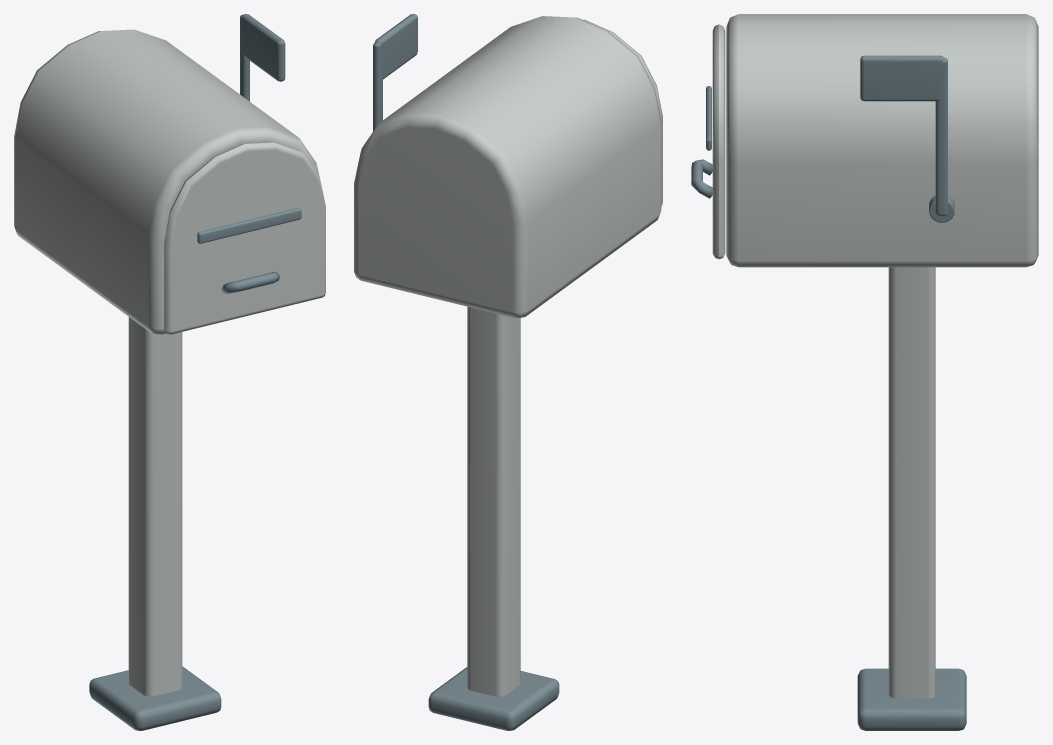
Rendered from mailbox.glb.
3 renders of one model, left to right at view 1: azimuth 30°, elevation 25°; view 2: azimuth 150°, elevation 25°; view 3: azimuth 270°, elevation 25°, orthographic. The views are drawn at different scales.
Parts seen in each view (by area): view 1: mailbox_shell, door, post, post_foot, flag, mail_slot, door_pull; view 2: mailbox_shell, post, post_foot, flag, flag_arm, door; view 3: mailbox_shell, post, post_foot, flag, door, flag_arm, door_pull.
Boxes of the visible parts, x1,y1,x2,y2 form: mailbox_shell: [14, 29, 323, 334]; door: [164, 142, 325, 334]; post: [128, 317, 182, 696]; post_foot: [89, 666, 221, 730]; flag: [241, 14, 285, 81]; mail_slot: [197, 208, 301, 243]; door_pull: [221, 271, 279, 294]; mailbox_shell: [354, 16, 661, 318]; post: [467, 306, 520, 696]; post_foot: [428, 667, 559, 730]; flag: [374, 14, 417, 79]; flag_arm: [373, 42, 382, 131]; door: [583, 19, 662, 206]; mailbox_shell: [726, 14, 1038, 267]; post: [888, 267, 935, 698]; post_foot: [857, 668, 966, 730]; flag: [860, 55, 943, 101]; door: [712, 24, 725, 259]; flag_arm: [935, 57, 947, 215]; door_pull: [691, 159, 712, 198].
Size of the model in its own units: 0.49 by 1.58 by 0.7006.
